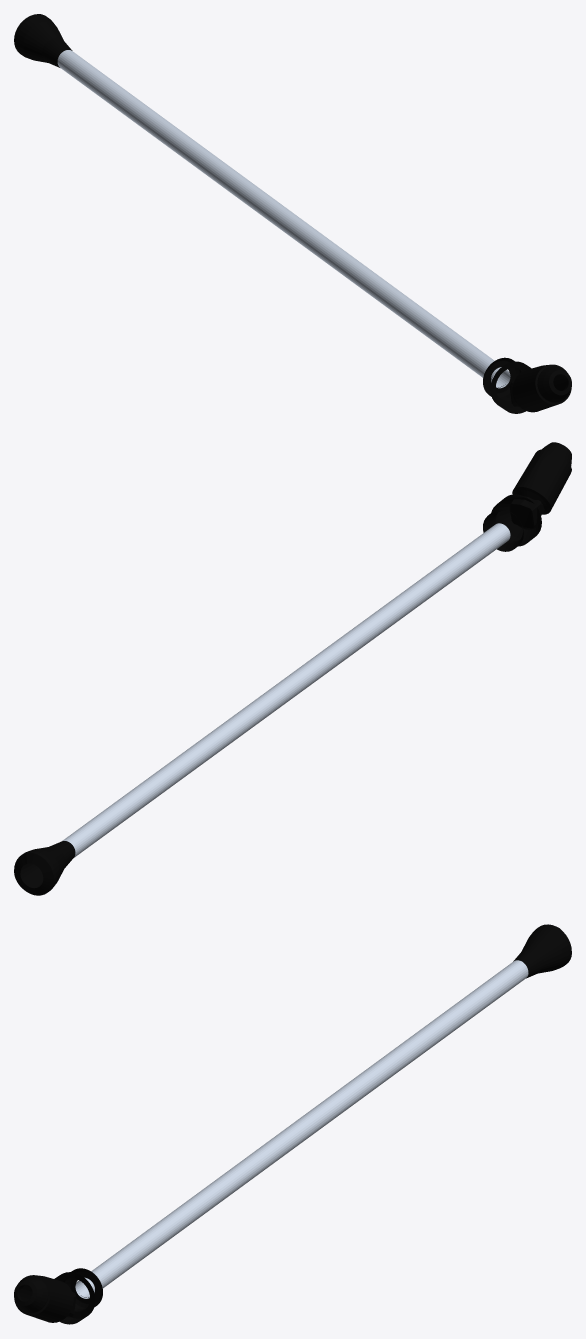
File: spraying_stick.dae
The picture shows the model from 3 angles, top to bottom: view 1: azimuth 30°, elevation 25°; view 2: azimuth 150°, elevation 25°; view 3: azimuth 330°, elevation 25°; orthographic projection.
Visible parts, largest first — view 1: sprayer; view 2: sprayer; view 3: sprayer.
Part boxes in pixels (x1,y1,x2,y2): sprayer: (14,14,571,413); sprayer: (14,442,571,895); sprayer: (14,924,571,1324).
Bounding box in the file's own units: 0.0248 × 0.5332 × 0.0389.
